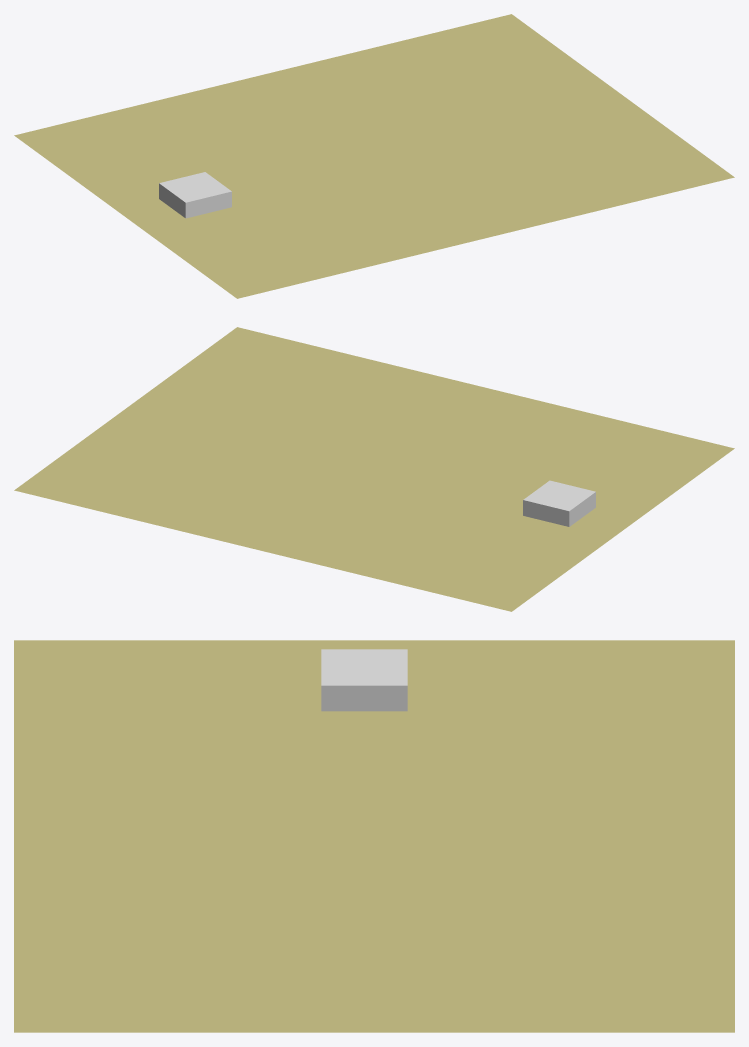
The model's file is ByakkoStage3.3.fbx.
The picture shows the model from 3 angles, top to bottom: view 1: azimuth 30°, elevation 25°; view 2: azimuth 150°, elevation 25°; view 3: azimuth 270°, elevation 25°; orthographic projection. The views are drawn at different scales.
Visible parts, largest first — view 1: Plane.011, Cube.105; view 2: Plane.011, Cube.105; view 3: Plane.011, Cube.105.
Part boxes in pixels (x1,y1,x2,y2): Plane.011: (14,14,734,298); Cube.105: (159,172,231,218); Plane.011: (14,327,734,611); Cube.105: (523,480,595,526); Plane.011: (14,640,734,1032); Cube.105: (321,649,407,711).
Size of the model in its own units: 86.69 by 8.06 by 67.34.
